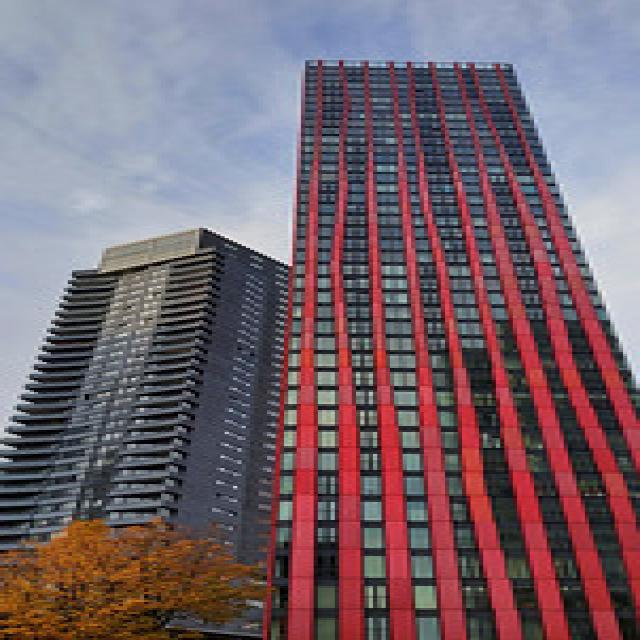Normal_building: (277, 51, 638, 639), (2, 220, 269, 640)
